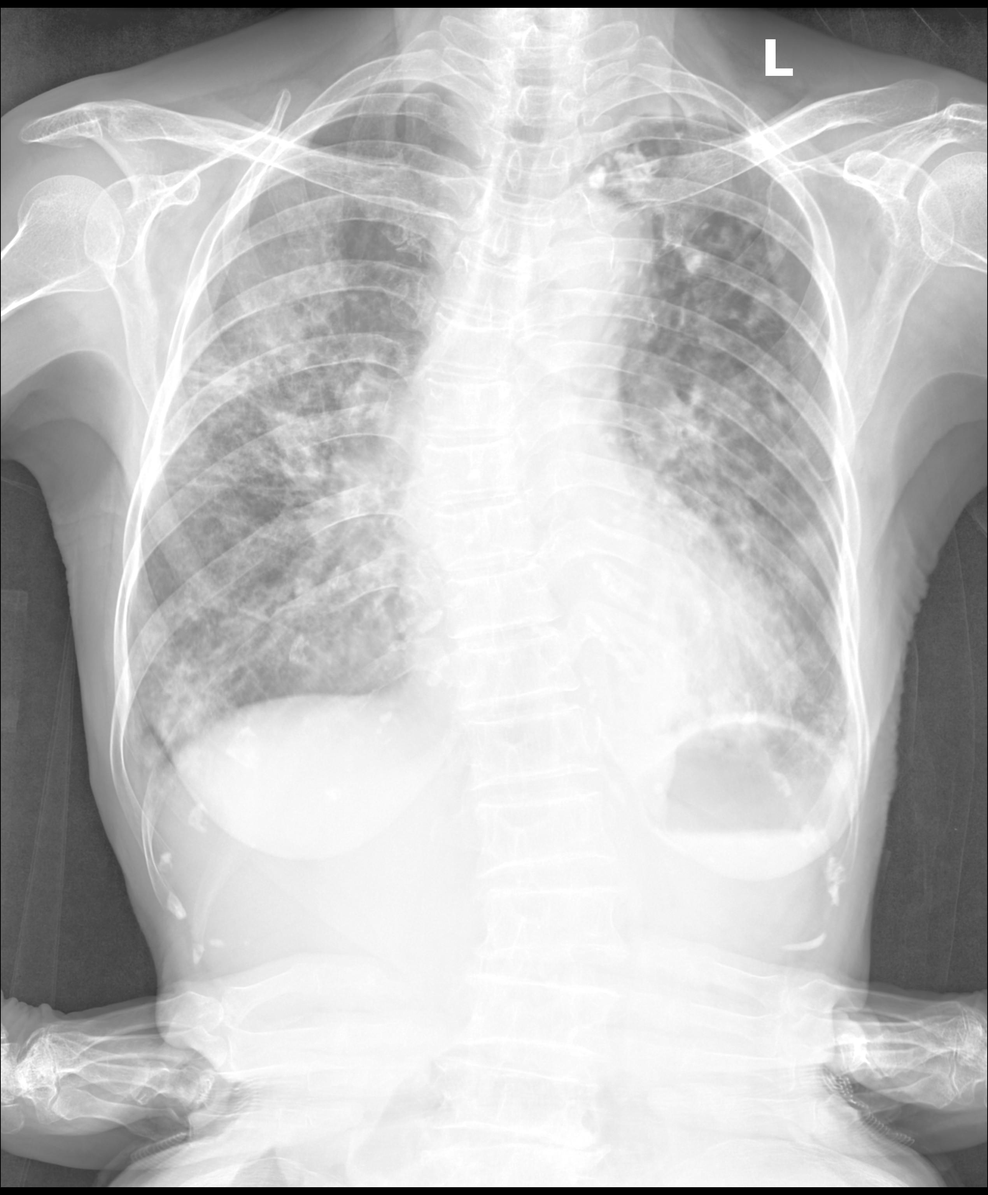Aortic enlargement: (521, 184, 653, 358)
Cardiomegaly: (393, 598, 805, 742)
Pleural thickening: (598, 89, 758, 133), (124, 710, 176, 818), (835, 694, 861, 778)
Pulmonary fibrosis: (162, 291, 377, 509), (228, 603, 335, 667)
